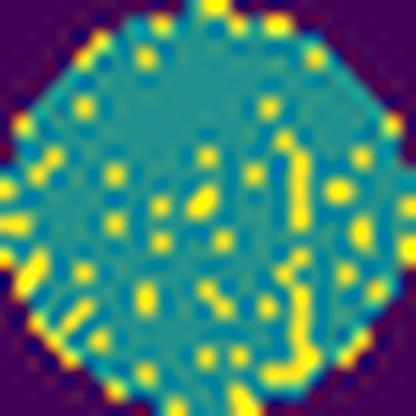Scratch: (262, 243, 320, 390), (271, 129, 316, 237)
